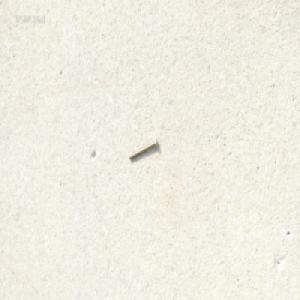Bolt: (128, 137, 157, 159)
